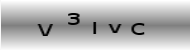3: (67, 12, 79, 26)
C: (131, 23, 145, 36)
V: (36, 22, 54, 38)
l: (91, 20, 97, 36)
v: (108, 23, 121, 33)
